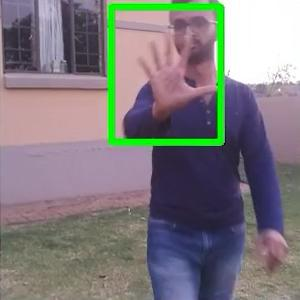follow_hand: (135, 20, 222, 112)
